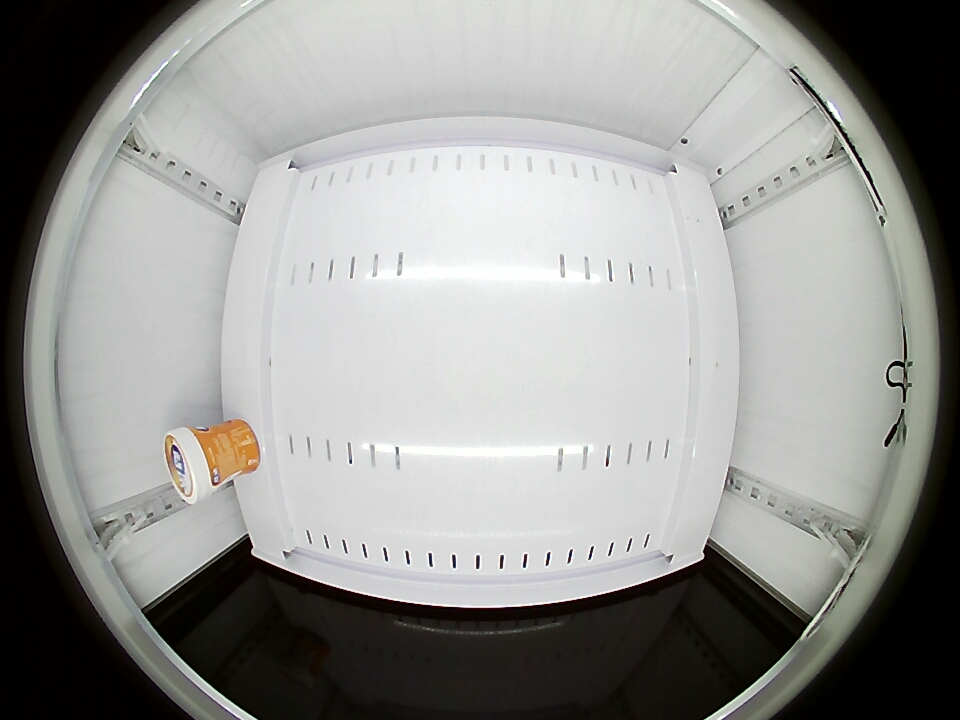yida: (164, 424, 220, 505)
